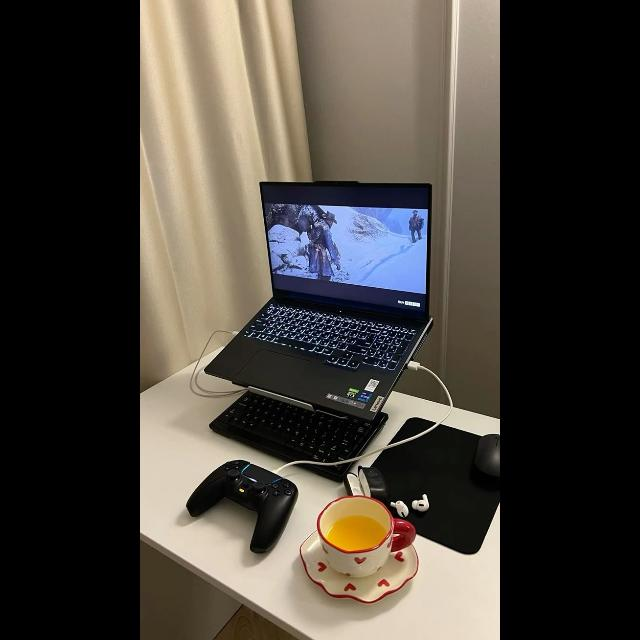laptop: (205, 181, 433, 428)
